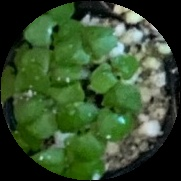Basil: (23, 0, 74, 46), (34, 99, 95, 136), (57, 25, 115, 62), (13, 66, 48, 123), (103, 85, 137, 139), (91, 55, 139, 90), (18, 46, 78, 74), (51, 63, 88, 101), (73, 134, 101, 179)
